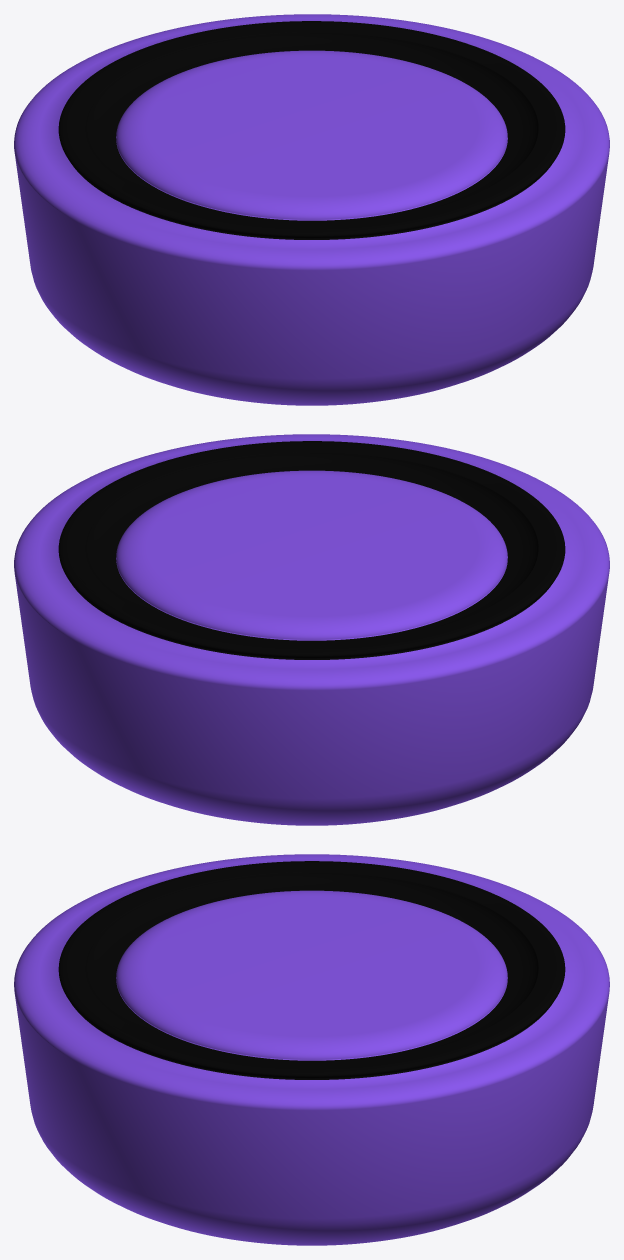
The model's file is stand.fbx.
3 renders of one model, top to bottom at view 1: azimuth 30°, elevation 25°; view 2: azimuth 150°, elevation 25°; view 3: azimuth 270°, elevation 25°, orthographic.
Parts seen in each view (by area): view 1: Cylinder; view 2: Cylinder; view 3: Cylinder.
Boxes of the visible parts, x1,y1,x2,y2 form: Cylinder: [14, 14, 609, 405]; Cylinder: [14, 434, 609, 825]; Cylinder: [14, 854, 609, 1245].
Size of the model in its own units: 220 by 85.42 by 220.
